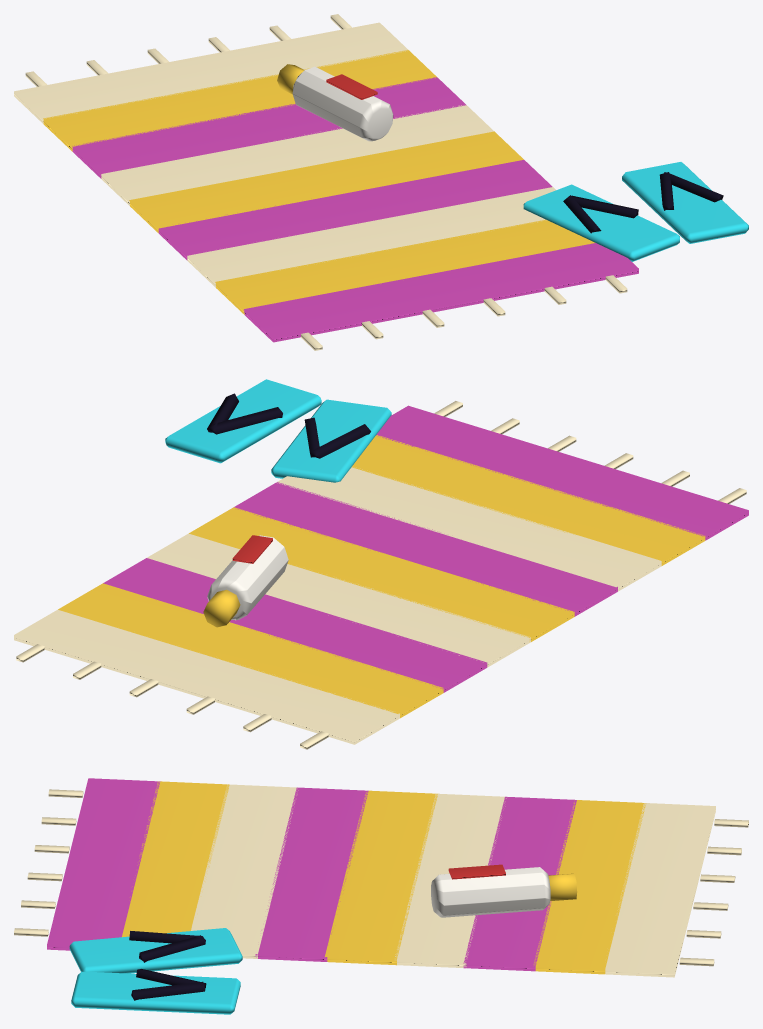
Rendered from beach_towel_b.glb.
3 views of the same model, one above another, from view 1: azimuth 30°, elevation 25°; view 2: azimuth 150°, elevation 25°; view 3: azimuth 270°, elevation 25° (orthographic). The views are drawn at different scales.
Visible parts, largest first — view 1: Towel; view 2: Towel; view 3: Towel.
Boxes of the visible parts, x1,y1,x2,y2 form: Towel: (14,14,748,350); Towel: (14,379,748,749); Towel: (14,778,748,1014).
Bounding box in the file's own units: 0.8083 × 0.073 × 1.08.
